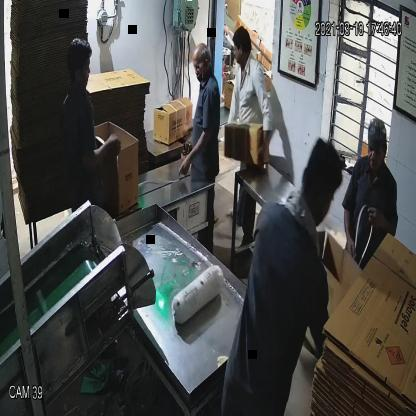no_glove: (76, 124, 129, 174), (254, 78, 279, 177), (175, 125, 211, 188), (368, 195, 400, 248), (337, 195, 359, 263)
